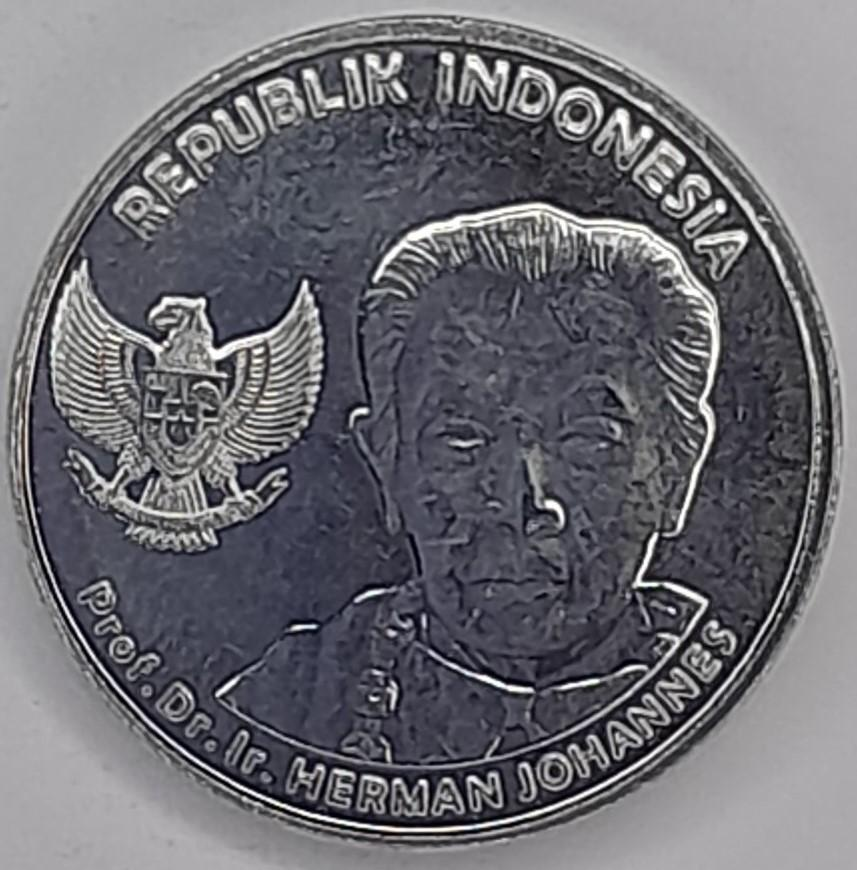coin_100_e2016: (1, 6, 849, 851)
